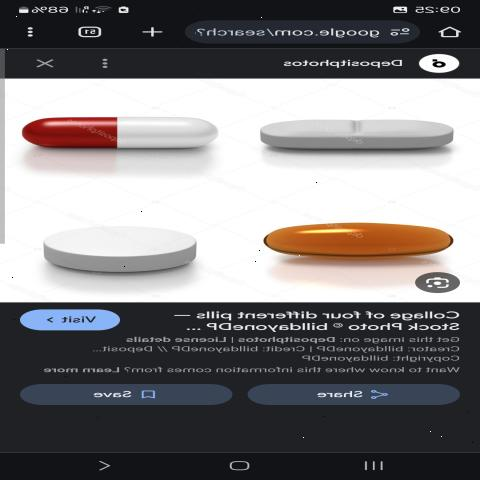Pill: (244, 98, 471, 173), (24, 106, 222, 166), (29, 222, 204, 278)
